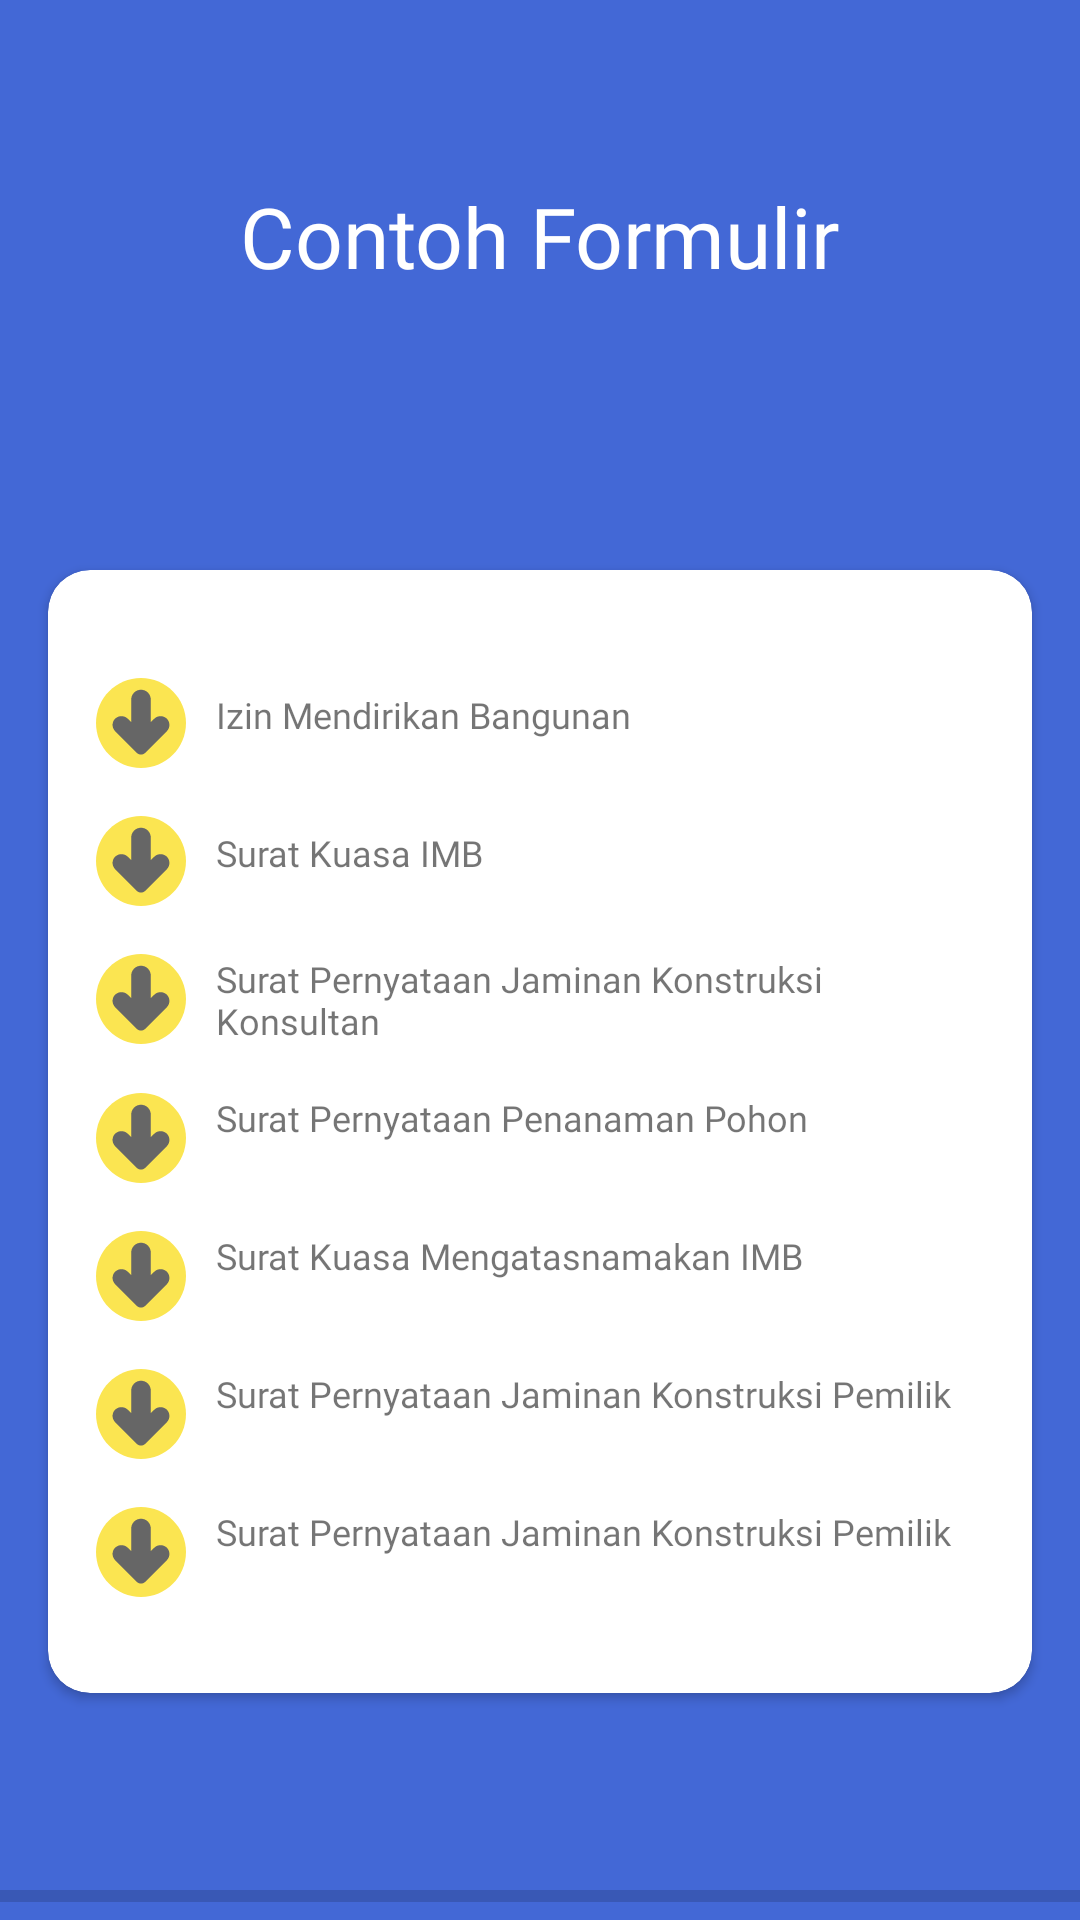

Icon bounding boxes for this 1080x1920 phone screenshot, format bbox=[x1, y1, x2, y2]:
down arrow: bbox=[96, 678, 186, 768], bbox=[96, 816, 186, 906], bbox=[96, 954, 186, 1044], bbox=[96, 1093, 186, 1183], bbox=[96, 1231, 186, 1321], bbox=[96, 1369, 186, 1459], bbox=[96, 1507, 186, 1597]
